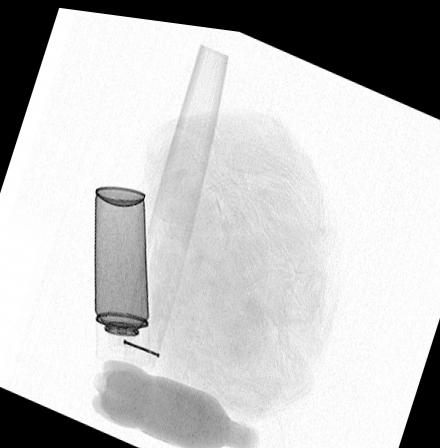Sprayer: (92, 182, 148, 366)
